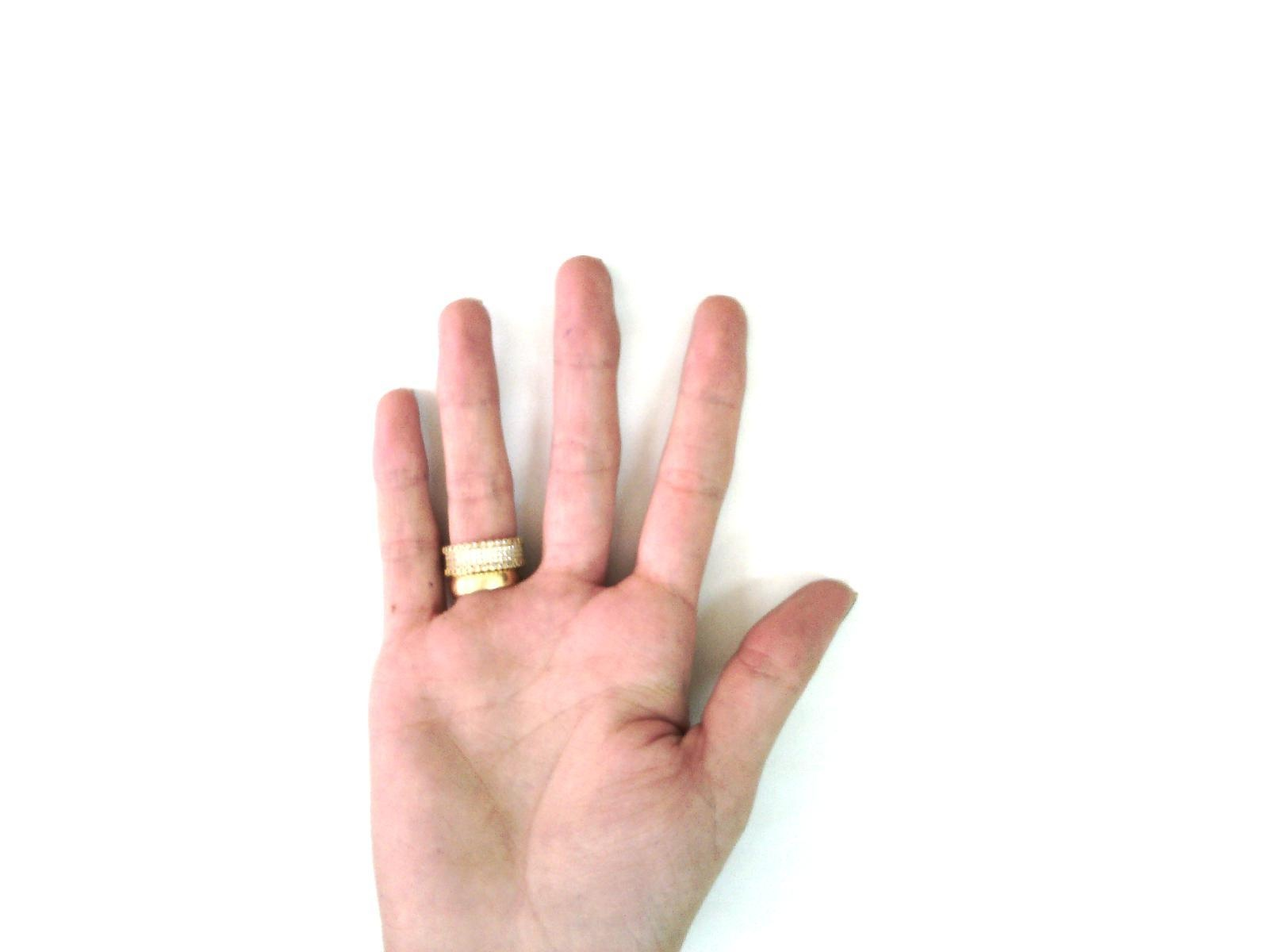open_palm: (363, 254, 861, 951)
